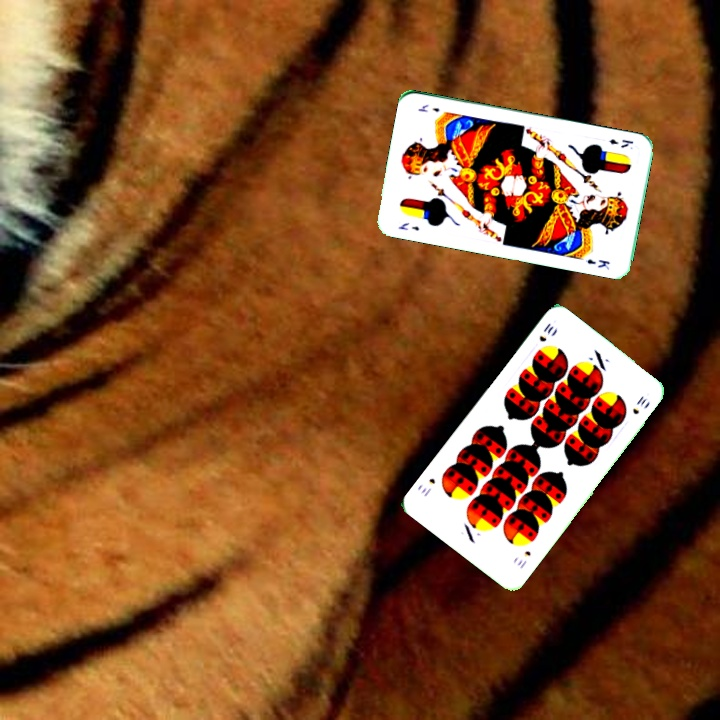EK: (605, 135, 636, 150), (394, 218, 422, 233)
S10: (535, 319, 556, 345), (513, 546, 533, 571)
